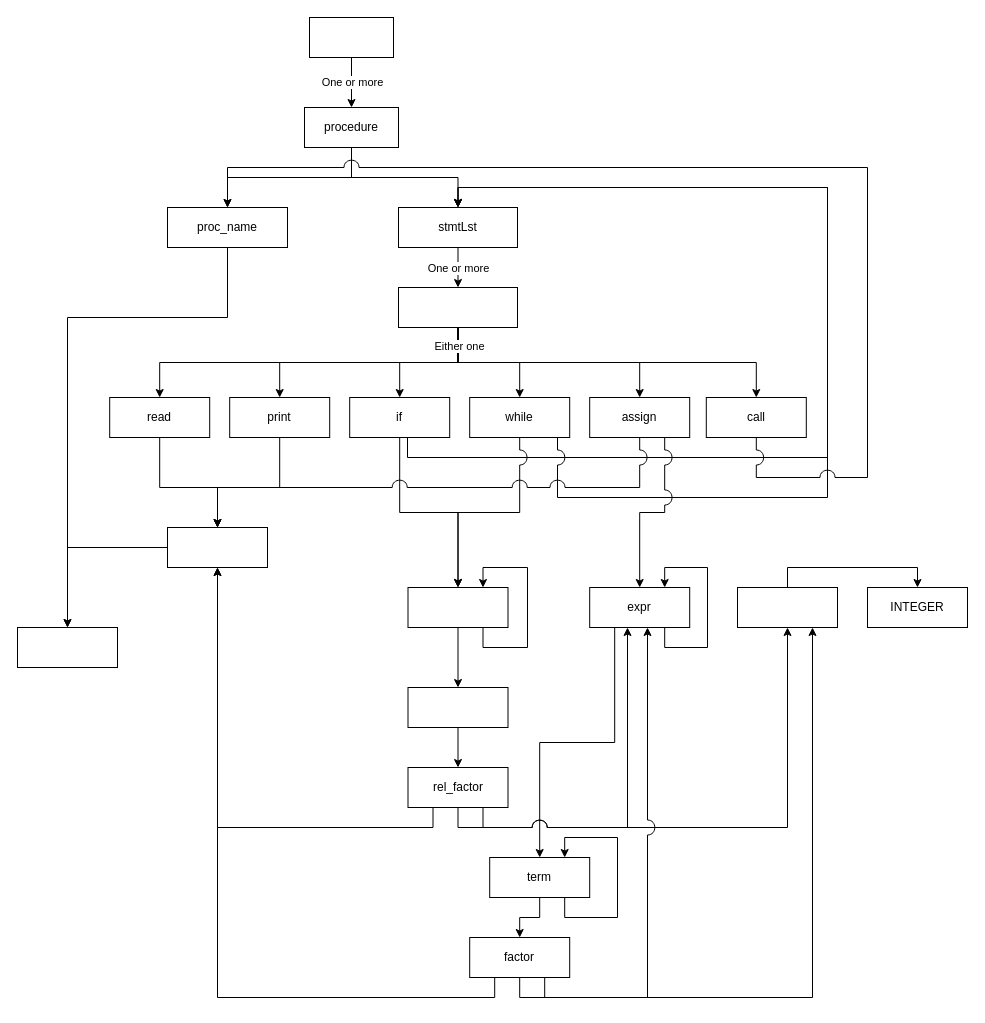
Image size: 985x1023. Some labels were removed from this diagram. Each missing label, with the box of its shape:
cond_expr: (407, 586, 508, 628)
const_value: (736, 586, 838, 628)
NAME: (16, 626, 118, 668)
program: (308, 16, 394, 58)
rel_expr: (407, 686, 508, 728)
stmt: (398, 286, 518, 328)
var_name: (166, 526, 268, 568)
